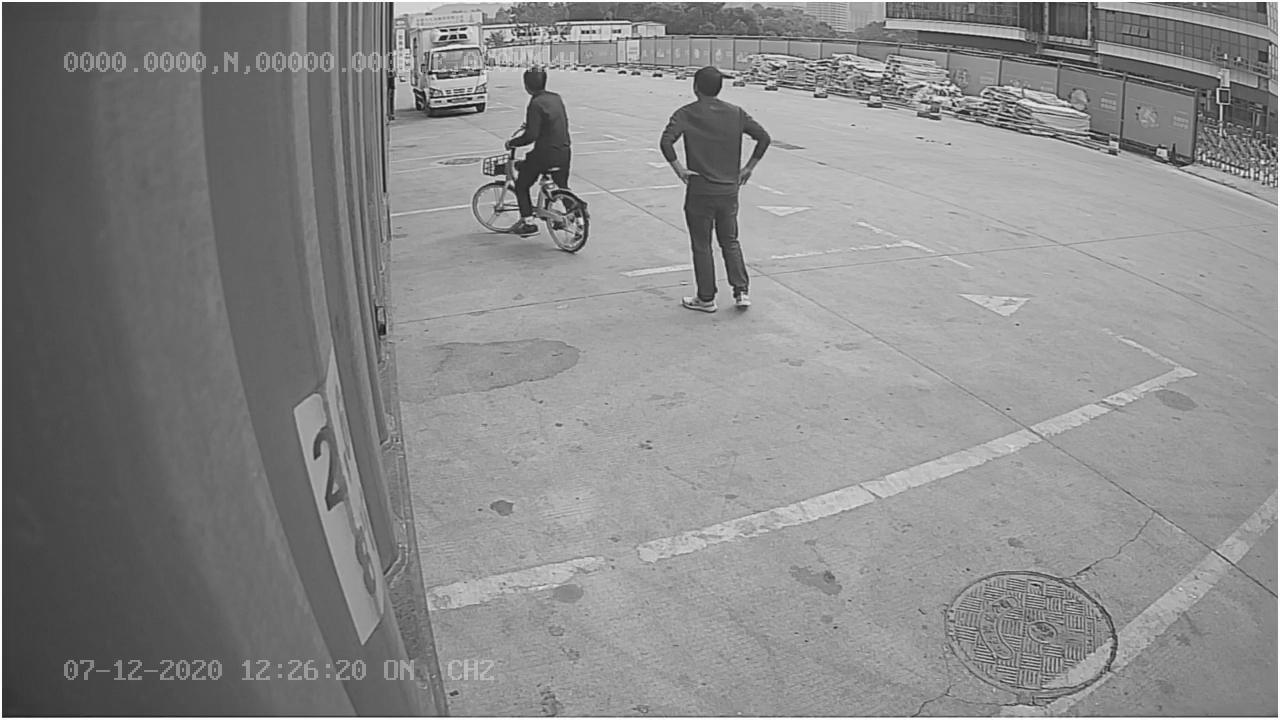person: (653, 65, 779, 319)
